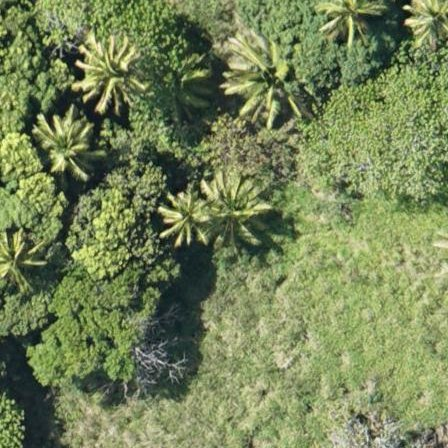palm_tree: (223, 37, 299, 120), (29, 112, 97, 185), (73, 37, 141, 104), (198, 172, 263, 237), (156, 185, 211, 246), (1, 225, 48, 291), (324, 1, 381, 37), (407, 1, 448, 45)
